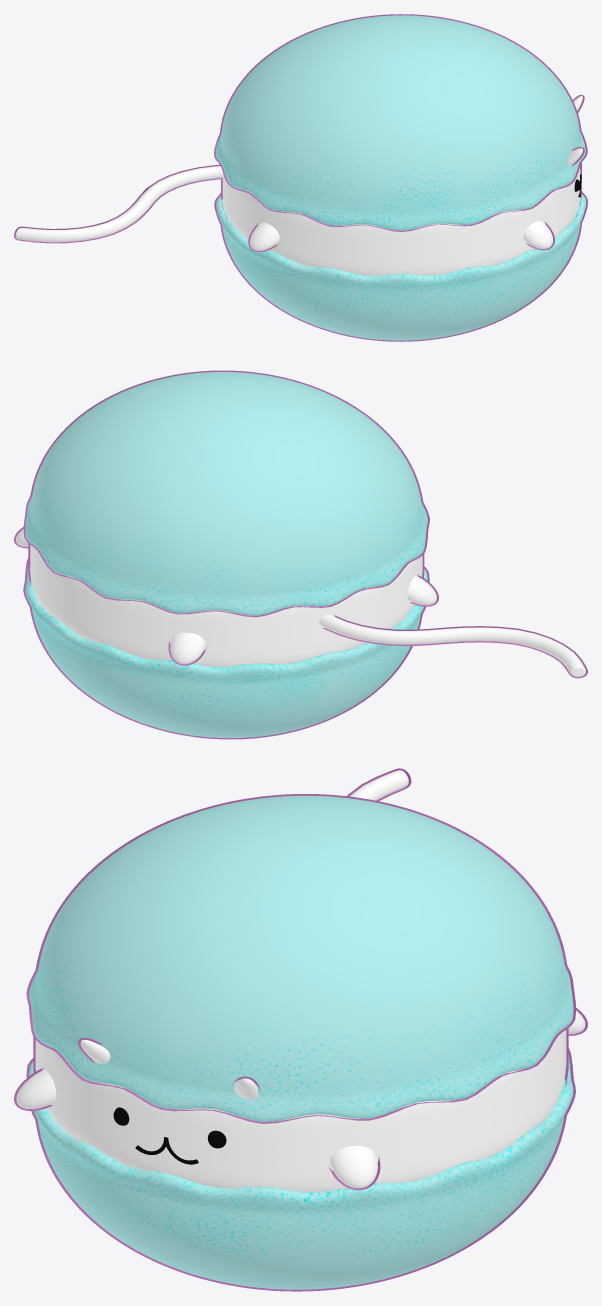
The model's file is catbiscuit.glb.
3 views of the same model, one above another, from view 1: azimuth 30°, elevation 25°; view 2: azimuth 150°, elevation 25°; view 3: azimuth 270°, elevation 25° (orthographic). The views are drawn at different scales.
Parts seen in each view (by area): view 1: catbiiscuit; view 2: catbiiscuit; view 3: catbiiscuit.
Part boxes in pixels (x1=…): catbiiscuit: x1=14, y1=14, x2=587, y2=341; catbiiscuit: x1=14, y1=370, x2=587, y2=739; catbiiscuit: x1=14, y1=768, x2=587, y2=1291.
Size of the model in its own units: 107 by 54.39 by 66.99.
1 material, 1 textured.
